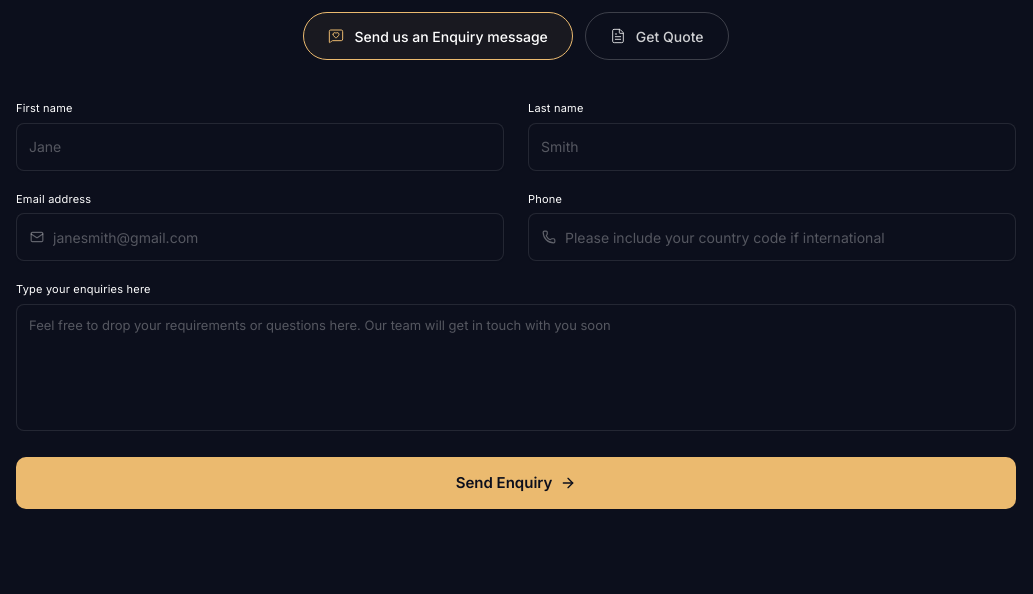
Test: EnquiryForm › blocks submit and shows errors when required fields are empty
This screenshot has width=1033, height=594.
Click the button "Send Enquiry" at (516, 483), box [16,457,1016,509]
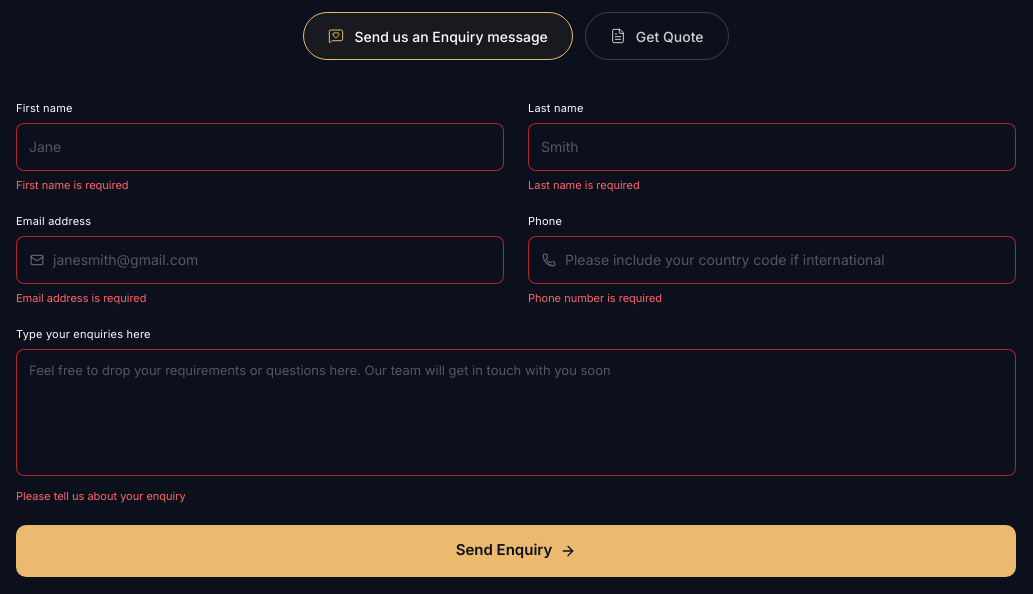
Check: the text "First name is required" is shown, box [16,178,129,192]
Check: the text "Email address is required" is shown, box [16,290,146,304]
Check: the text "Please tell us about your enquiry" is shown, box [16,489,186,503]
